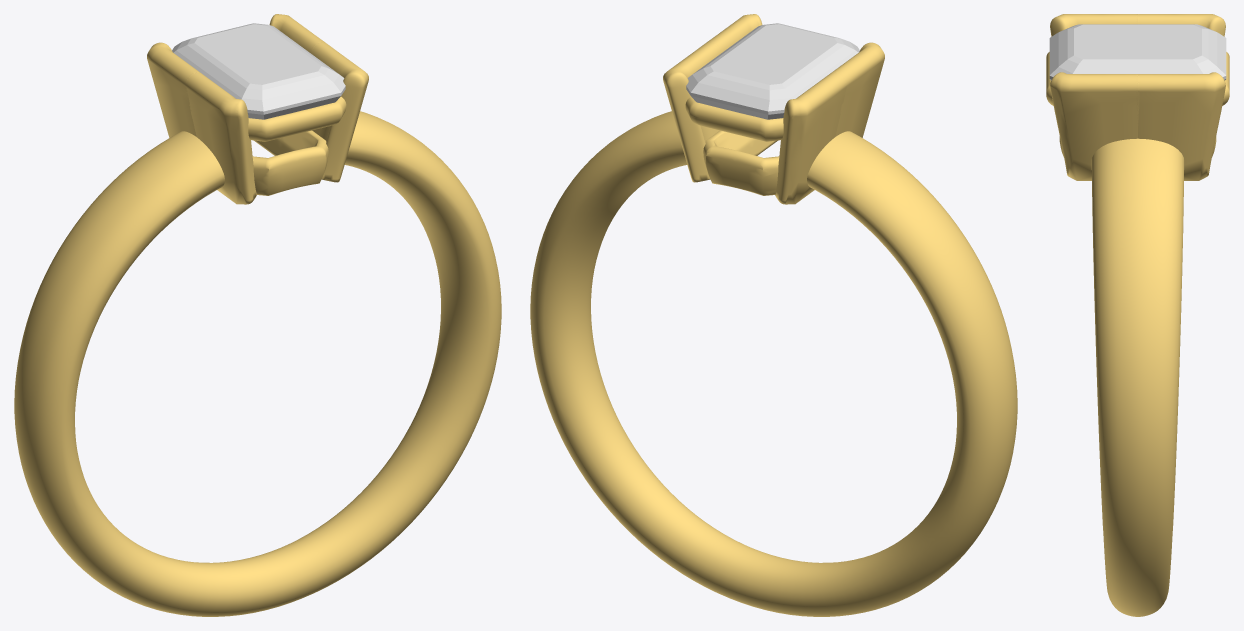
The model's file is diamond-emerald-yellowgold-halfmoonbezel-taperedband-solitaire.glb.
The picture shows the model from 3 angles, left to right: view 1: azimuth 30°, elevation 25°; view 2: azimuth 150°, elevation 25°; view 3: azimuth 270°, elevation 25°; orthographic projection.
Visible parts, largest first — view 1: metal, stone; view 2: metal, stone; view 3: metal, stone.
Part boxes in pixels (x1,y1,x2,y2): metal: (14, 14, 501, 616); stone: (172, 23, 345, 119); metal: (530, 14, 1017, 616); stone: (686, 23, 859, 119); metal: (1046, 14, 1229, 616); stone: (1049, 24, 1226, 80).
Size of the model in its own units: 20.5 by 22.94 by 6.94.
